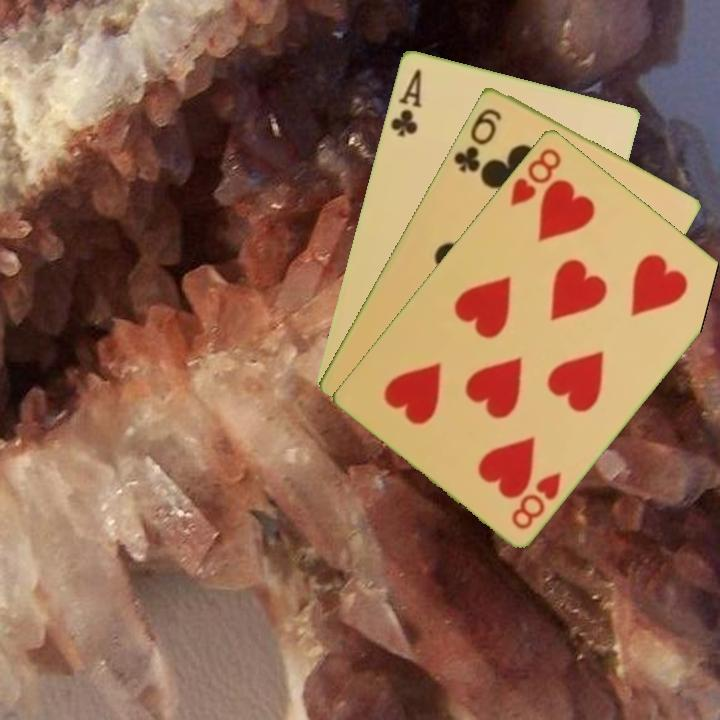6c: (449, 104, 505, 175)
8h: (506, 143, 564, 209), (507, 467, 565, 532)
Ac: (386, 64, 424, 139)
